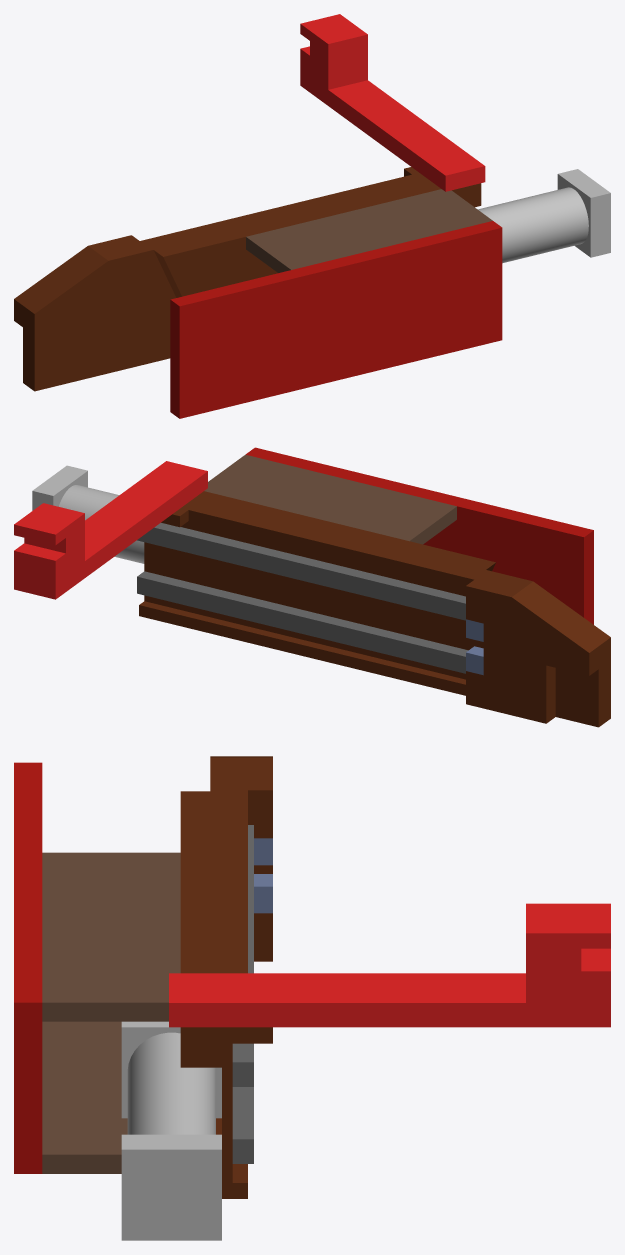
Rendered from dayama_alt.glb.
3 views of the same model, one above another, from view 1: azimuth 30°, elevation 25°; view 2: azimuth 150°, elevation 25°; view 3: azimuth 270°, elevation 25° (orthographic). The views are drawn at different scales.
Parts seen in each view (by area): view 1: 03 - 07 - DAYAMA ALT TABLASI, 03 - 01 - DAYAMA TABLASI, 03 - 29 - DAYAMA GERD\X2\0130\X0\RME, 03 - 03 - SOL YAN KAPAK, 03 - 26 - DAYAMA ARKA KAFA; view 2: 03 - 01 - DAYAMA TABLASI, 03 - 07 - DAYAMA ALT TABLASI, 03 - 29 - DAYAMA GERD\X2\0130\X0\RME, 03 - 03 - SOL YAN KAPAK, THK 25 - RAY, THK 25 - RAY001, 03 - 26 - DAYAMA ARKA KAFA, 03 - 47 - TABLA -KAMALAR 1; view 3: 03 - 29 - DAYAMA GERD\X2\0130\X0\RME, 03 - 03 - SOL YAN KAPAK, 03 - 01 - DAYAMA TABLASI, 03 - 26 - DAYAMA ARKA KAFA, 03 - 04 - SA\X2\011E\X0\ YAN KAPAK, 03 - 07 - DAYAMA ALT TABLASI, THK 25 - RAY001, THK 25 - RAY, 03 - 47 - TABLA -KAMALAR 1.
Part boxes in pixels (x1,y1,x2,y2): 03 - 07 - DAYAMA ALT TABLASI: (170, 221, 502, 418); 03 - 01 - DAYAMA TABLASI: (14, 167, 481, 391); 03 - 29 - DAYAMA GERD\X2\0130\X0\RME: (300, 14, 485, 191); 03 - 03 - SOL YAN KAPAK: (246, 189, 492, 272); 03 - 26 - DAYAMA ARKA KAFA: (478, 169, 610, 263); 03 - 01 - DAYAMA TABLASI: (139, 491, 610, 727); 03 - 07 - DAYAMA ALT TABLASI: (246, 447, 593, 624); 03 - 29 - DAYAMA GERD\X2\0130\X0\RME: (14, 461, 207, 599); 03 - 03 - SOL YAN KAPAK: (204, 454, 456, 544); THK 25 - RAY: (137, 571, 468, 673); THK 25 - RAY001: (137, 523, 465, 620); 03 - 26 - DAYAMA ARKA KAFA: (32, 465, 144, 563); 03 - 47 - TABLA -KAMALAR 1: (466, 646, 483, 675); 03 - 29 - DAYAMA GERD\X2\0130\X0\RME: (169, 903, 610, 1027); 03 - 03 - SOL YAN KAPAK: (42, 852, 180, 1021); 03 - 01 - DAYAMA TABLASI: (180, 756, 272, 1198); 03 - 26 - DAYAMA ARKA KAFA: (121, 1021, 221, 1240); 03 - 04 - SA\X2\011E\X0\ YAN KAPAK: (42, 1021, 127, 1173); 03 - 07 - DAYAMA ALT TABLASI: (14, 762, 42, 1173); THK 25 - RAY001: (232, 825, 253, 1086); THK 25 - RAY: (232, 1087, 253, 1163); 03 - 47 - TABLA -KAMALAR 1: (254, 874, 272, 913).
Bounding box in the file's own units: 0.814 × 0.248 × 0.505.
